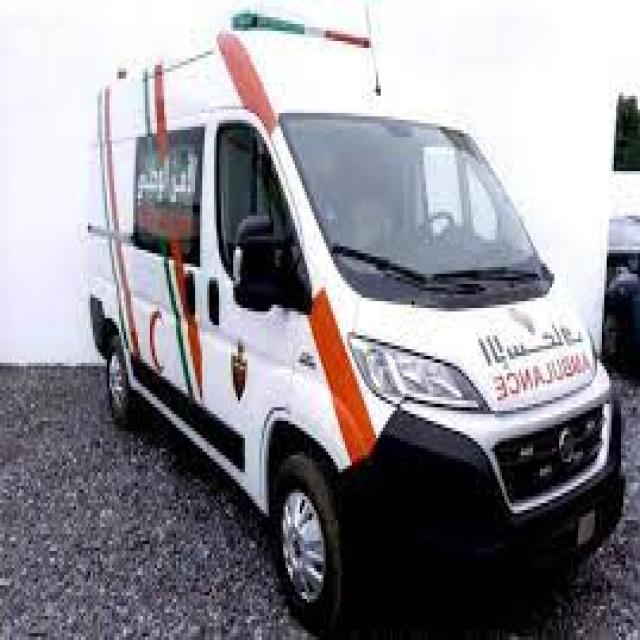police: (84, 10, 619, 618)
